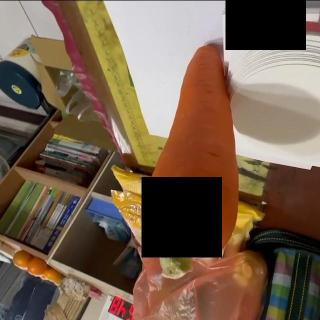carrot: (142, 44, 240, 278)
